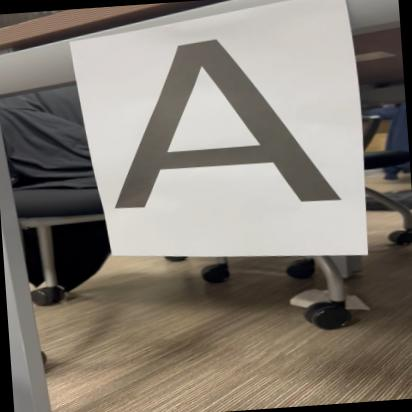seat: (102, 28, 348, 220)
